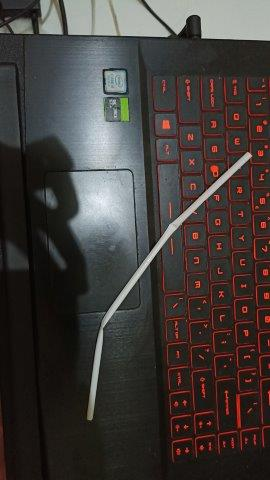sedotan: (88, 153, 250, 420)
